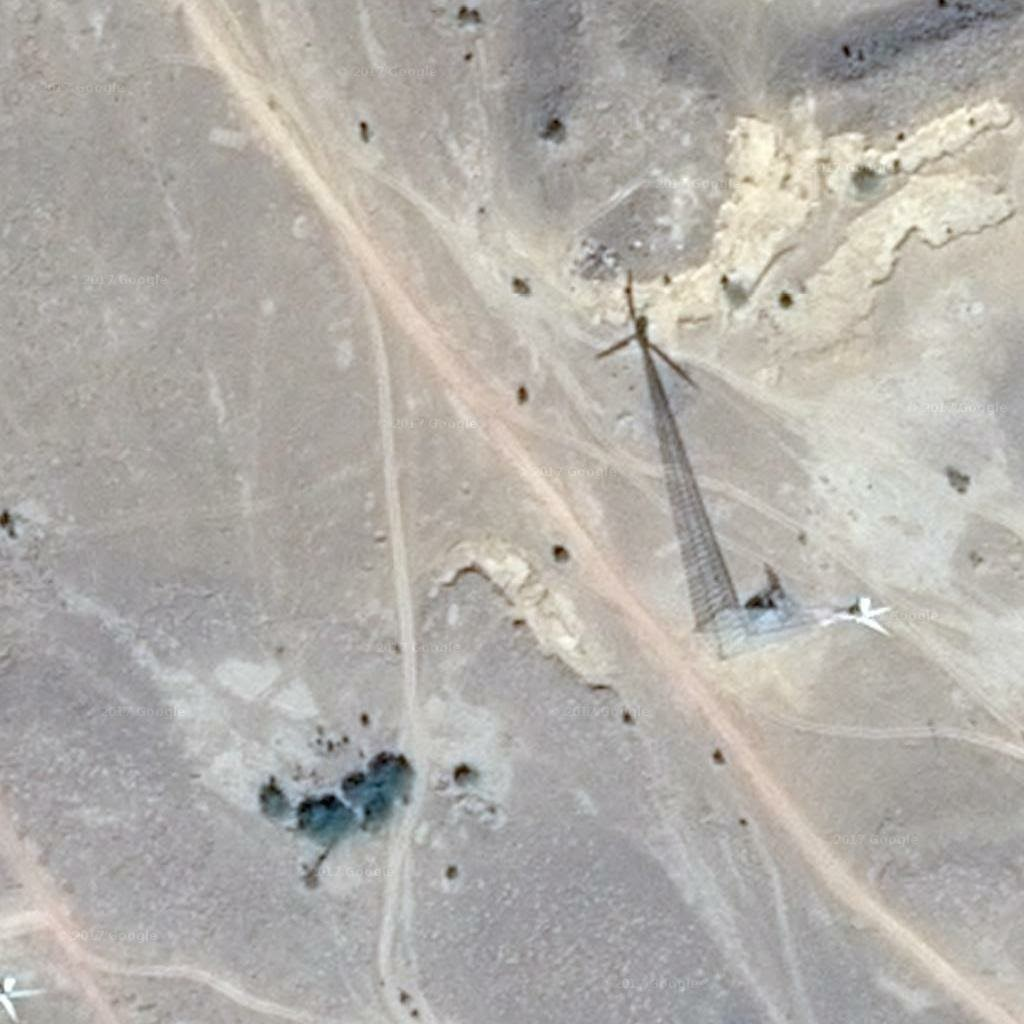Windmill: (596, 275, 754, 605)
